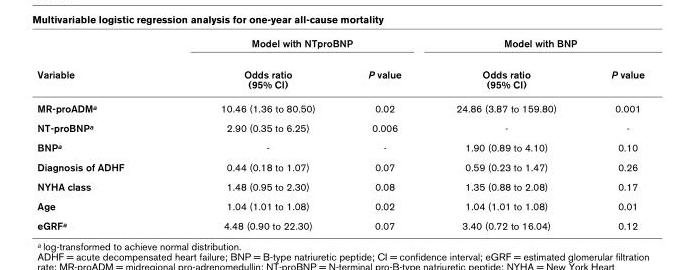table: (36, 36, 643, 231)
table column: (171, 36, 341, 231), (428, 36, 583, 231), (36, 36, 171, 231), (341, 36, 428, 231), (583, 36, 643, 231)
table column header: (36, 36, 643, 95)
table row: (36, 58, 643, 95), (36, 36, 643, 58), (36, 95, 643, 117), (36, 117, 643, 137), (36, 156, 643, 176), (36, 195, 643, 215), (36, 137, 643, 156), (36, 176, 643, 195), (36, 215, 643, 231)
table spanning cell: (36, 36, 171, 95), (171, 36, 428, 58), (428, 36, 643, 58)
